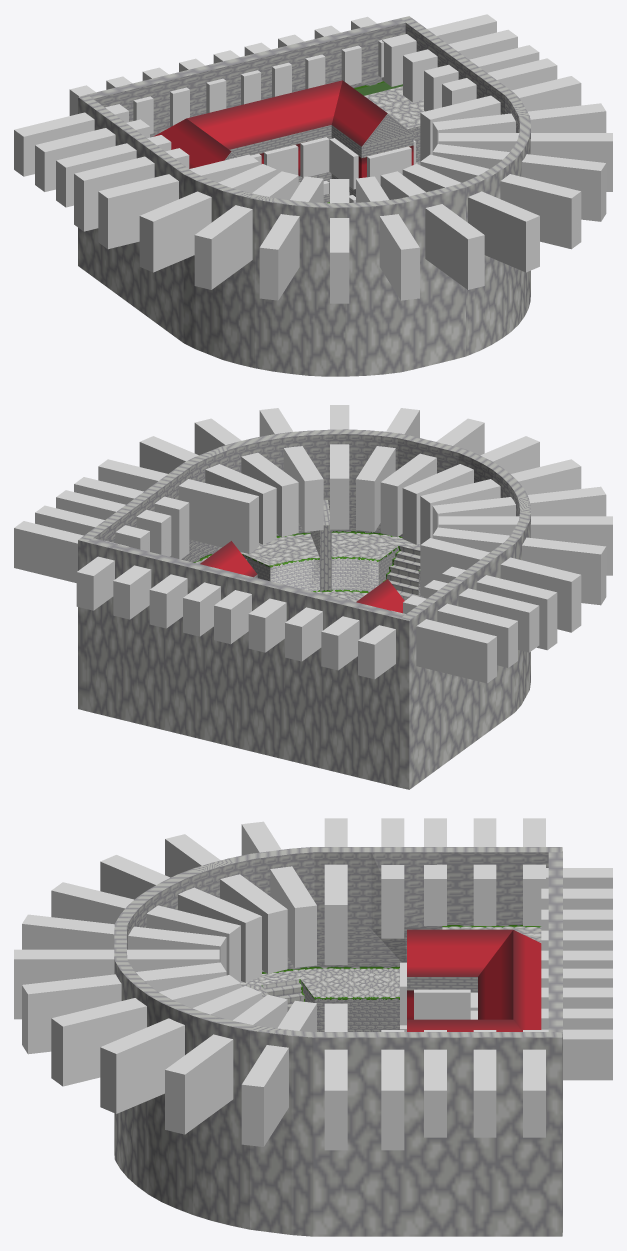
File: theater_collision.glb
3 views of the same model, one above another, from view 1: azimuth 30°, elevation 25°; view 2: azimuth 150°, elevation 25°; view 3: azimuth 270°, elevation 25° (orthographic). The views are drawn at different scales.
Visible parts, largest first — view 1: WindowCutouts, Temple; view 2: WindowCutouts, Temple; view 3: Temple, WindowCutouts.
Part boxes in pixels (box(x1,y1,x2,y2)): WindowCutouts: box(14, 14, 612, 303); Temple: box(78, 16, 530, 376); WindowCutouts: box(14, 405, 612, 683); Temple: box(78, 429, 530, 789); Temple: box(114, 847, 562, 1236); WindowCutouts: box(14, 818, 612, 1150).
Size of the model in its own units: 9.09 by 3.11 by 8.45.
1 material, 1 textured.
